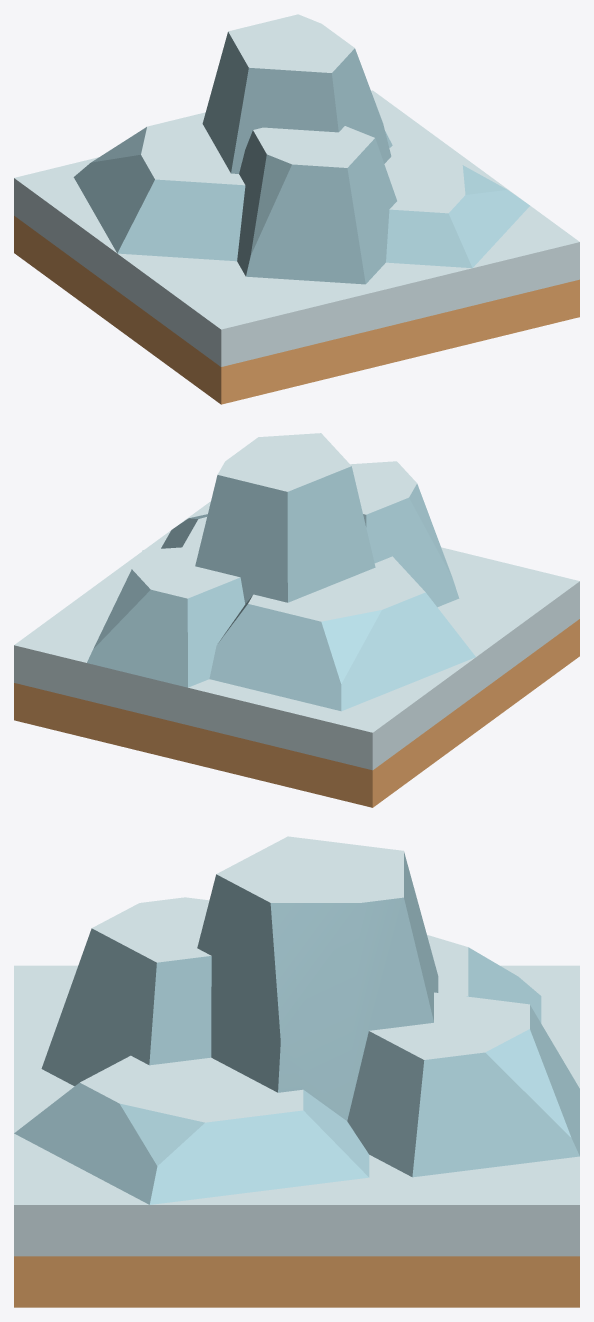
File: snow_tile_hill.dae
3 views of the same model, one above another, from view 1: azimuth 30°, elevation 25°; view 2: azimuth 150°, elevation 25°; view 3: azimuth 270°, elevation 25° (orthographic). The views are drawn at different scales.
Visible parts, largest first — view 1: rocks, snow_tile_hill; view 2: rocks, snow_tile_hill; view 3: rocks, snow_tile_hill.
Part boxes in pixels (<box>): rocks: <box>73,14,529,284</box>; snow_tile_hill: <box>14,90,579,404</box>; rocks: <box>87,433,475,711</box>; snow_tile_hill: <box>14,501,579,807</box>; rocks: <box>14,836,579,1204</box>; snow_tile_hill: <box>14,965,579,1307</box>.
Size of the model in its own units: 1 by 0.6186 by 1.
